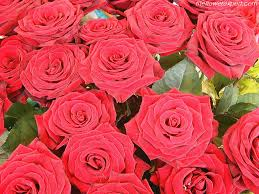flower: (122, 79, 224, 172), (68, 134, 155, 182), (38, 84, 116, 128), (198, 20, 247, 84), (7, 10, 91, 46), (128, 3, 188, 51), (227, 115, 259, 185), (85, 15, 130, 43)
